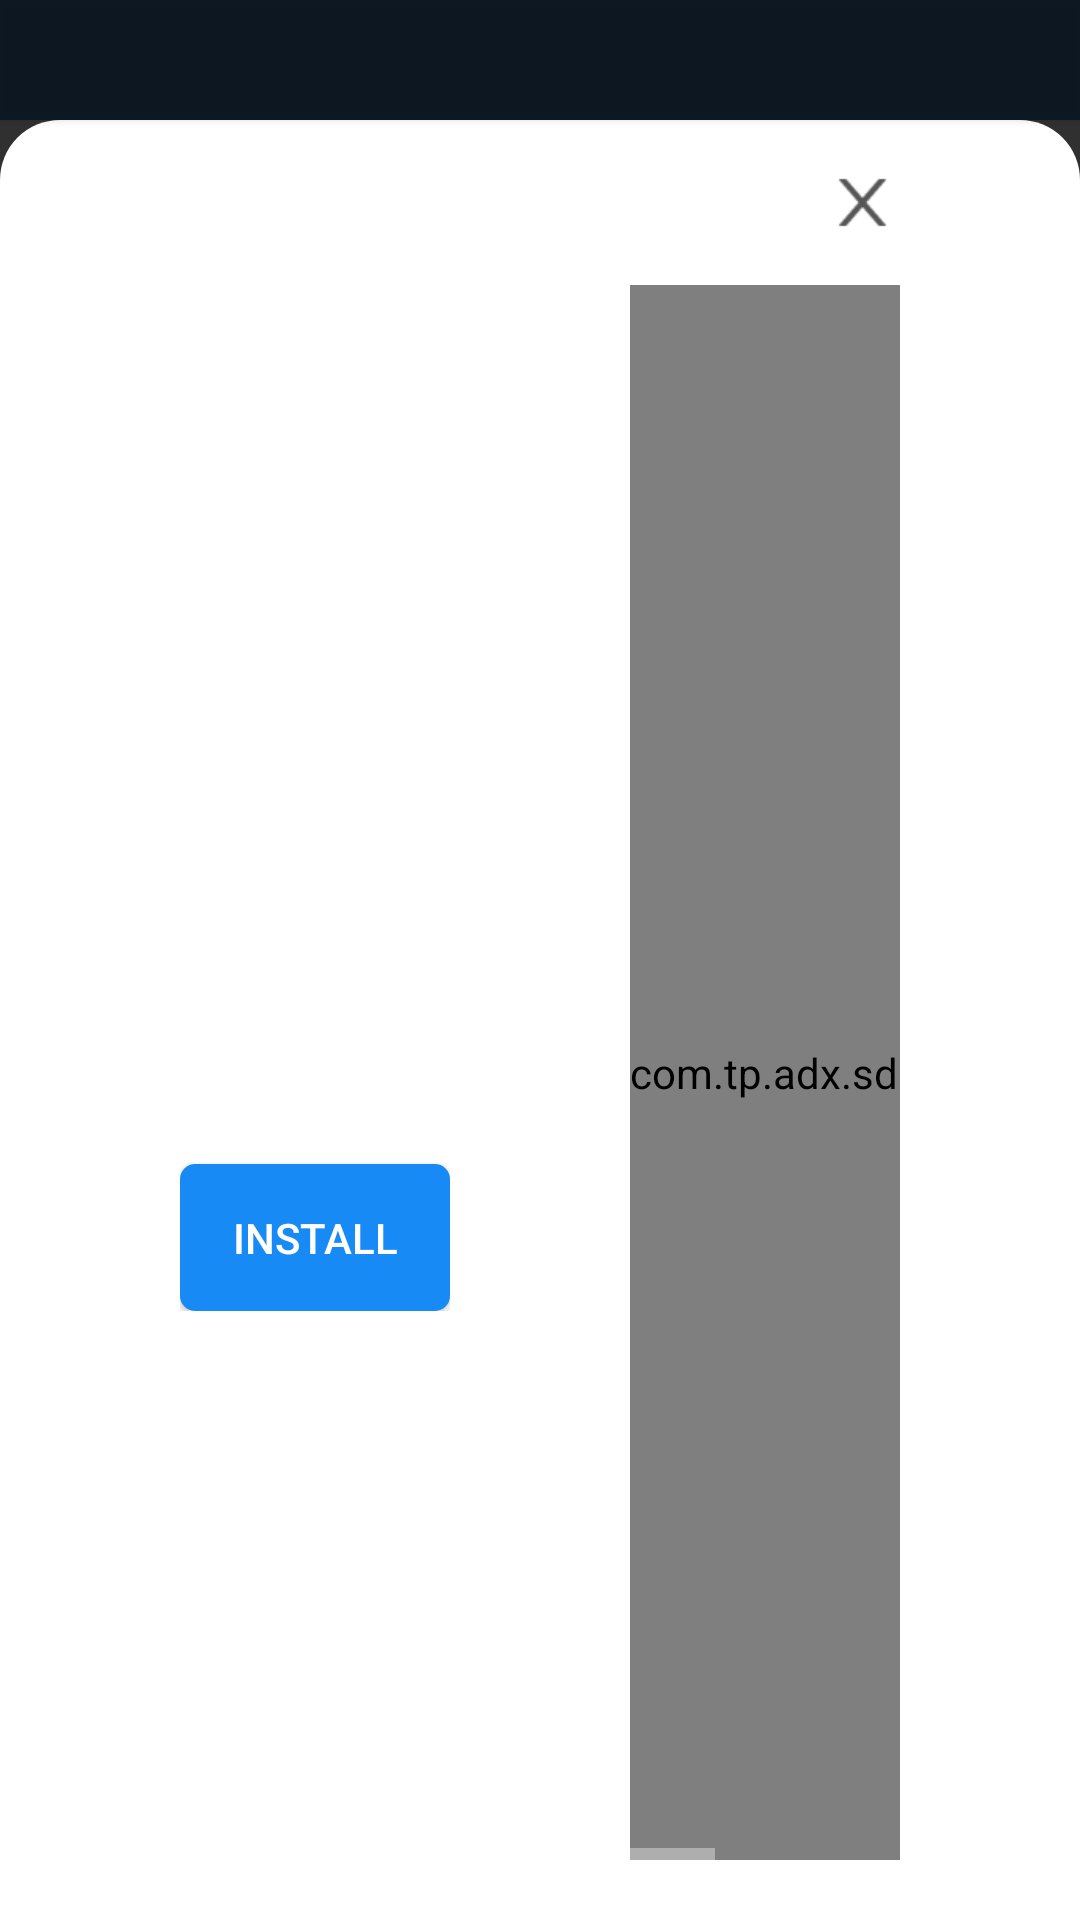

Named icons in this screenshot (1080w x 1920h) and their bounding boxes, bbox=[x1, y1, x2, y2]:
detail close: bbox=[839, 179, 886, 226]
